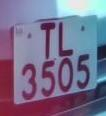0: (57, 55, 76, 97)
3: (18, 56, 42, 105)
5: (38, 57, 59, 102), (74, 52, 94, 93)
L: (56, 18, 77, 59)
T: (36, 17, 60, 62)
